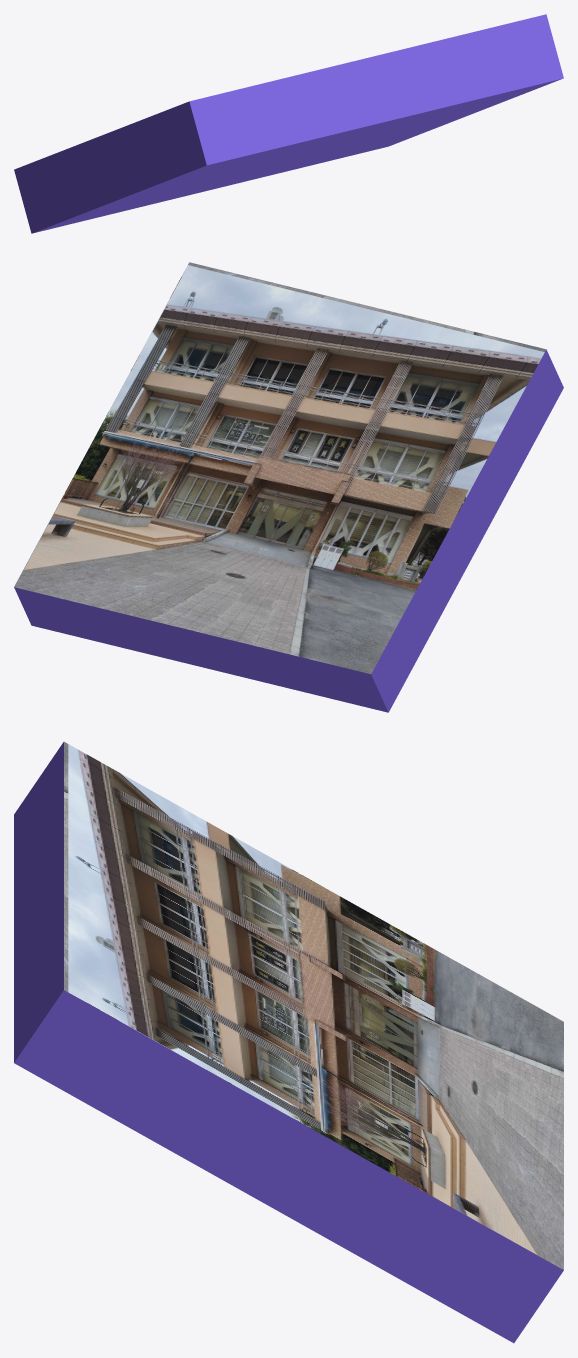
File: info.glb
The picture shows the model from 3 angles, top to bottom: view 1: azimuth 30°, elevation 25°; view 2: azimuth 150°, elevation 25°; view 3: azimuth 270°, elevation 25°; orthographic projection. The views are drawn at different scales.
Parts seen in each view (by area): view 1: 立方体; view 2: 立方体; view 3: 立方体.
Part boxes in pixels (left/top/right/bottom): 立方体: left=14, top=14, right=563, bottom=233; 立方体: left=14, top=262, right=563, bottom=712; 立方体: left=14, top=741, right=563, bottom=1343.
Size of the model in its own units: 2 by 1.33 by 1.87.
2 materials, 1 textured.
